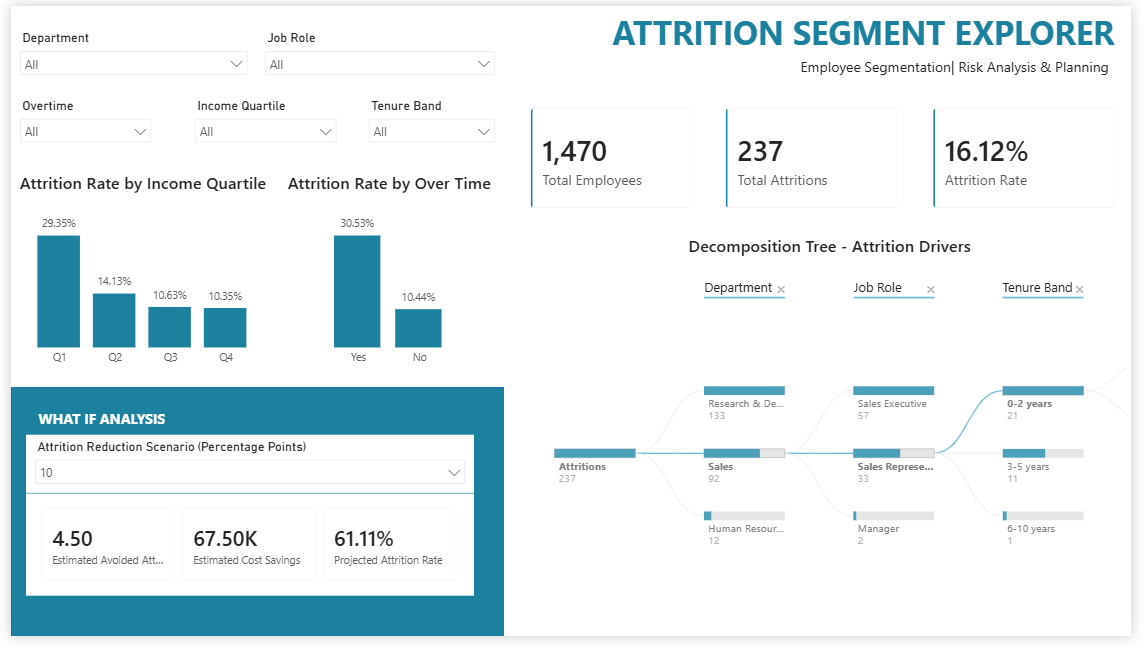

The dashboard page shown, as its layout file describes it:
{"tool":"powerbi","page":{"name":"Segment Explorer","canvas":[1280,720],"ordinal":1},"visuals":[{"type":"slicer","fields":{"Values":["employees.Department"]},"box":[0,22.9,280,77.1],"z":0},{"type":"slicer","fields":{"Values":["employees.job_role"]},"box":[280,22.9,282.9,77.1],"z":1000},{"type":"slicer","fields":{"Values":["employees.over_time"]},"box":[0,100,170,77.1],"z":2000},{"type":"slicer","fields":{"Values":["employees.income_quartile"]},"box":[199.3,100.7,182,71.3],"z":3000},{"type":"cardVisual","fields":{"Data":["employees.Headcount"]},"box":[577.1,100,222.9,148.6],"z":4000},{"type":"cardVisual","fields":{"Data":["employees.Attritions"]},"box":[800,100,237.1,148.6],"z":5000},{"type":"cardVisual","fields":{"Data":["employees.Attrition Rate %"]},"box":[1037.1,100,242.9,148.6],"z":6000},{"type":"slicer","fields":{"Values":["employees.tenure_band"]},"box":[398.6,100,164.3,71.4],"z":7000},{"type":"clusteredColumnChart","fields":{"Category":["employees.over_time"],"Y":["employees.Attrition Rate %"]},"box":[301.7,188.3,261.7,231.7],"z":8000},{"type":"clusteredColumnChart","fields":{"Category":["employees.income_quartile"],"Y":["employees.Attrition Rate %"]},"box":[0,188.3,301.7,231.7],"z":9000},{"type":"textbox","box":[610,0,656,77],"z":10000},{"type":"textbox","box":[896.7,52.2,369.1,48.2],"z":11000},{"type":"shape","box":[0,435,563.3,285],"z":12000},{"type":"slicer","fields":{"Values":["Attrition Reduction (pp).Attrition Reduction (pp)"]},"box":[16.7,490,511.7,66.7],"z":13000},{"type":"cardVisual","fields":{"Data":["Attrition Reduction (pp).Estimated Avoided Attritions","Attrition Reduction (pp).Estimated Cost Savings","Attrition Reduction (pp).Remaining Attrition Rate"]},"box":[16.7,556.7,511.7,116.7],"z":14000},{"type":"textbox","box":[16.7,455,173.3,46.7],"z":15000},{"type":"decompositionTreeVisual","title":"Decomposition Tree - Attrition Drivers","fields":{"Analyze":["employees.Attritions"],"ExplainBy":["employees.over_time","employees.tenure_band","employees.income_quartile","employees.marital_status","employees.job_role","employees.Department"]},"box":[576.7,248.3,703.3,471.7],"z":16000}]}

Visuals, with their boxes in screenshot pixels (x1, y1, x2, y2), scaled from the page's 1280x720 canvas onto the 1143x646 screenshot:
slicer - employees.Department: [0,21,250,90]
slicer - employees.job_role: [250,21,503,90]
slicer - employees.over_time: [0,90,152,159]
slicer - employees.income_quartile: [178,90,340,154]
cardVisual - employees.Headcount: [515,90,714,223]
cardVisual - employees.Attritions: [714,90,926,223]
cardVisual - employees.Attrition Rate %: [926,90,1142,223]
slicer - employees.tenure_band: [356,90,503,154]
clusteredColumnChart - employees.over_time x employees.Attrition Rate %: [269,169,503,377]
clusteredColumnChart - employees.income_quartile x employees.Attrition Rate %: [0,169,269,377]
textbox: [545,0,1130,69]
textbox: [801,47,1130,90]
shape: [0,390,503,645]
slicer - Attrition Reduction (pp).Attrition Reduction (pp): [15,440,472,499]
cardVisual - Attrition Reduction (pp).Estimated Avoided Attritions x Attrition Reduction (pp).Estimated Cost Savings: [15,499,472,604]
textbox: [15,408,170,450]
"Decomposition Tree - Attrition Drivers" decompositionTreeVisual: [515,223,1142,645]
